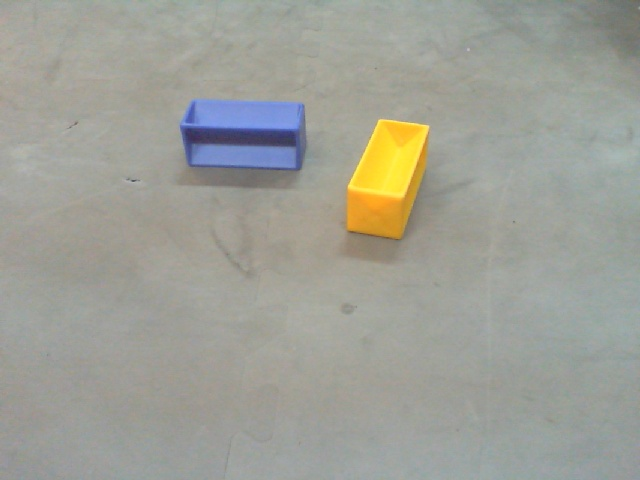BlueSample: (178, 96, 307, 170)
YellowSample: (346, 119, 431, 240)
